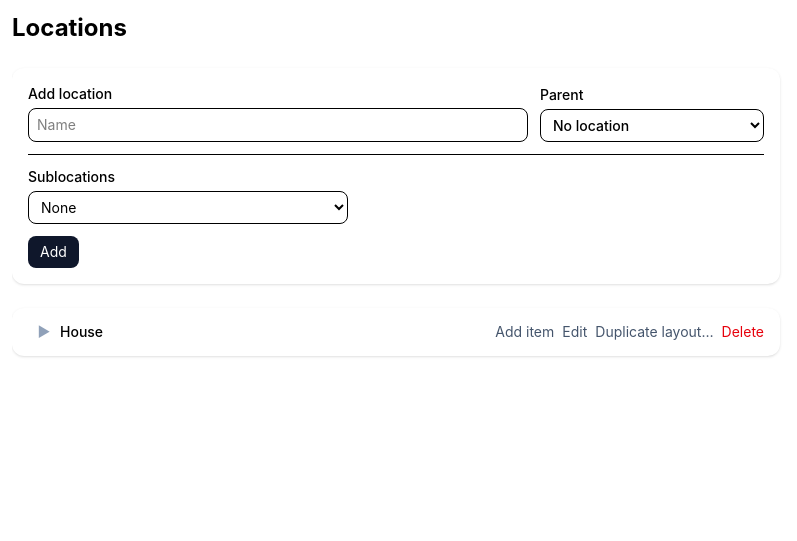
Test: LocationsView › generate mode previews the count and first names of a 12x6 compact flat grid
The image size is (797, 541).
Select "Generate grid" in the 2nd dropdown at coordinates (188, 208), box [28,191,348,224]
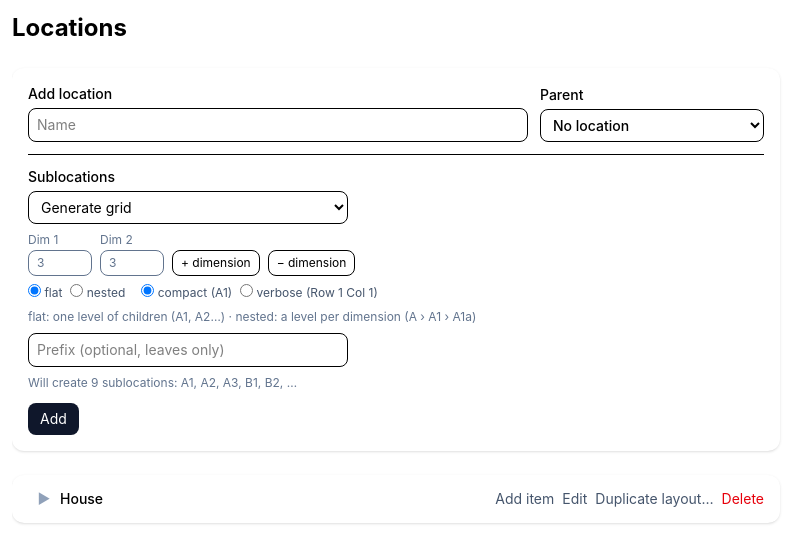
Now the number of number fields is 2
Replace the text in the number field labelled "Dim 1" with "12" at coordinates (60, 263), box [28,250,92,276]
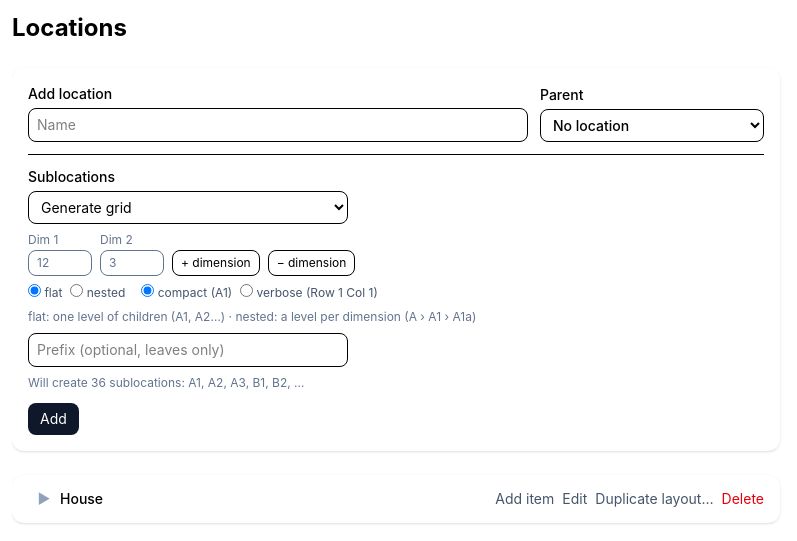
Replace the text in the number field labelled "Dim 2" with "6" at coordinates (132, 263), box [100,250,164,276]
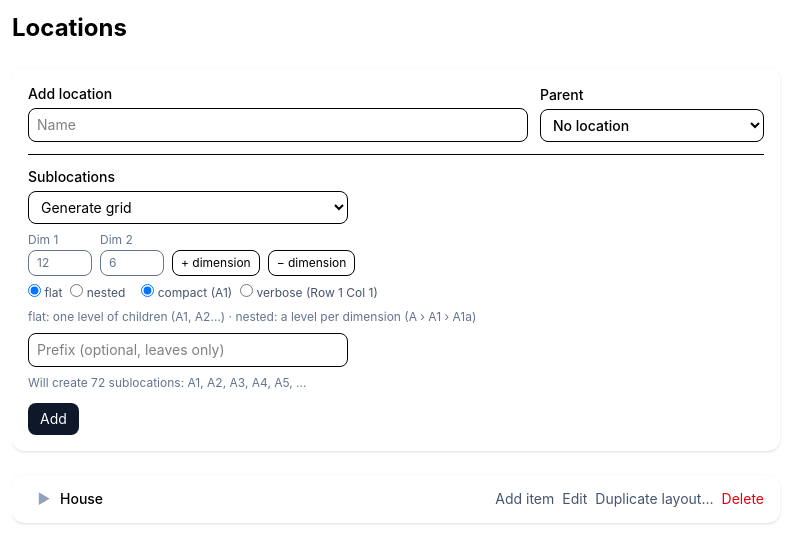
Now the element showing "Will create 72 sublocations: A1, A2, A3, A4, A5, …" is shown, box [28,375,306,390]
